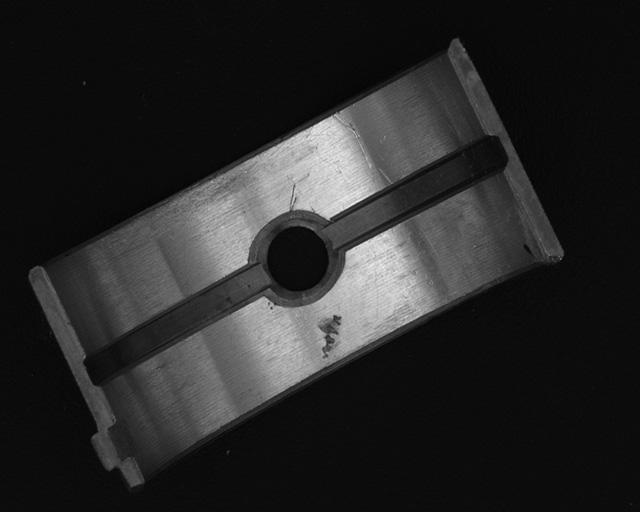blot: (521, 243, 538, 260)
bruise: (320, 314, 343, 359)
gap: (87, 264, 270, 383), (326, 138, 504, 247)
hole: (252, 217, 341, 303)
nick: (332, 113, 375, 172), (289, 183, 299, 212)
scratch: (98, 159, 258, 255)
